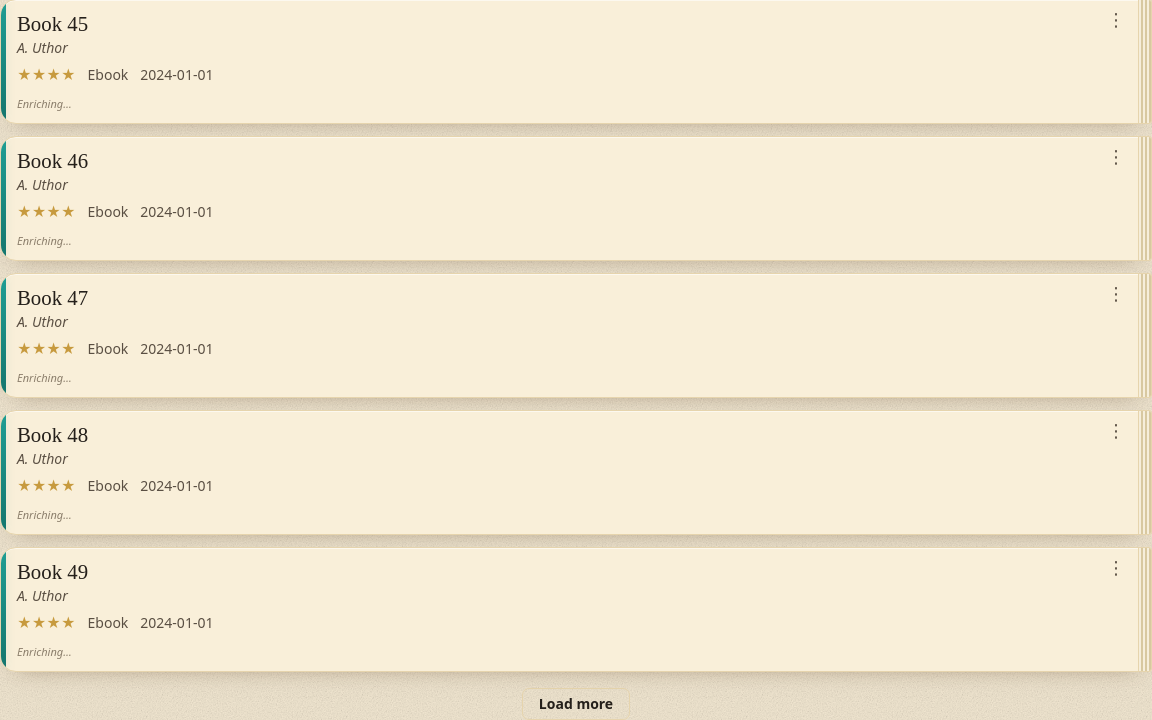
Test: HistoryView pagination › loads the first page and appends the next on "Load more"
(page scrolled)
Click the button "Load more". click: (576, 704)
box: x1=522 y1=688 x2=630 y2=719
(page scrolled)
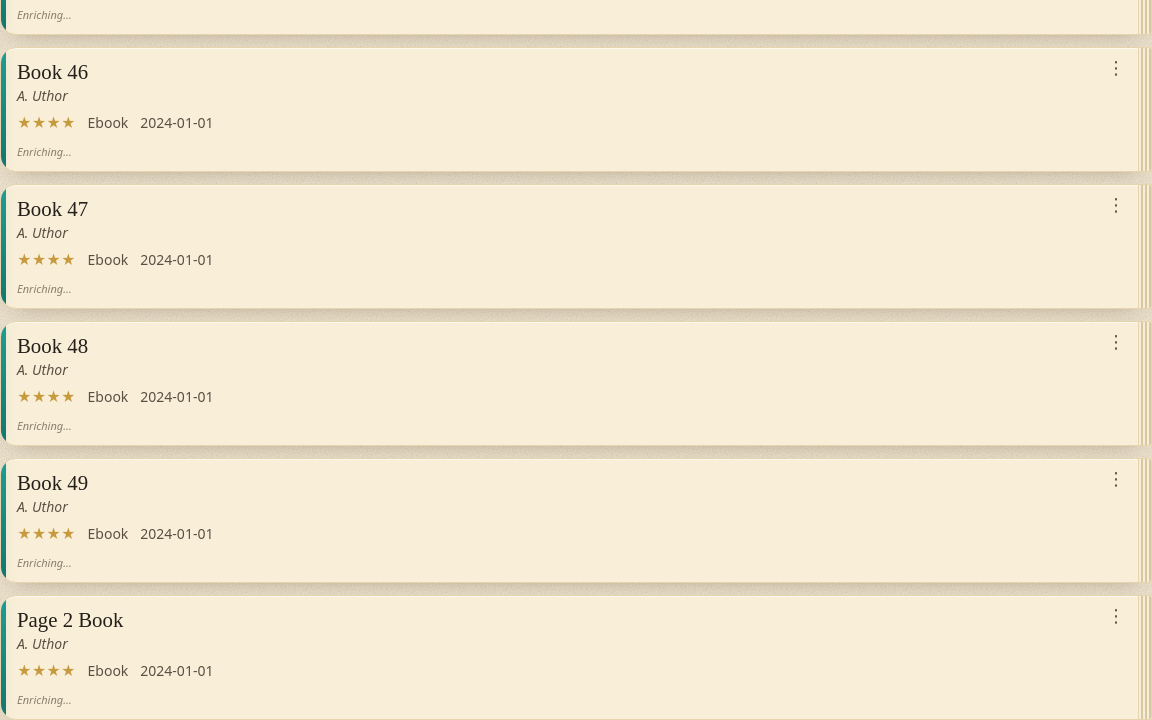
Expected: the text "Page 2 Book" is shown, x1=17 y1=608 x2=123 y2=632
